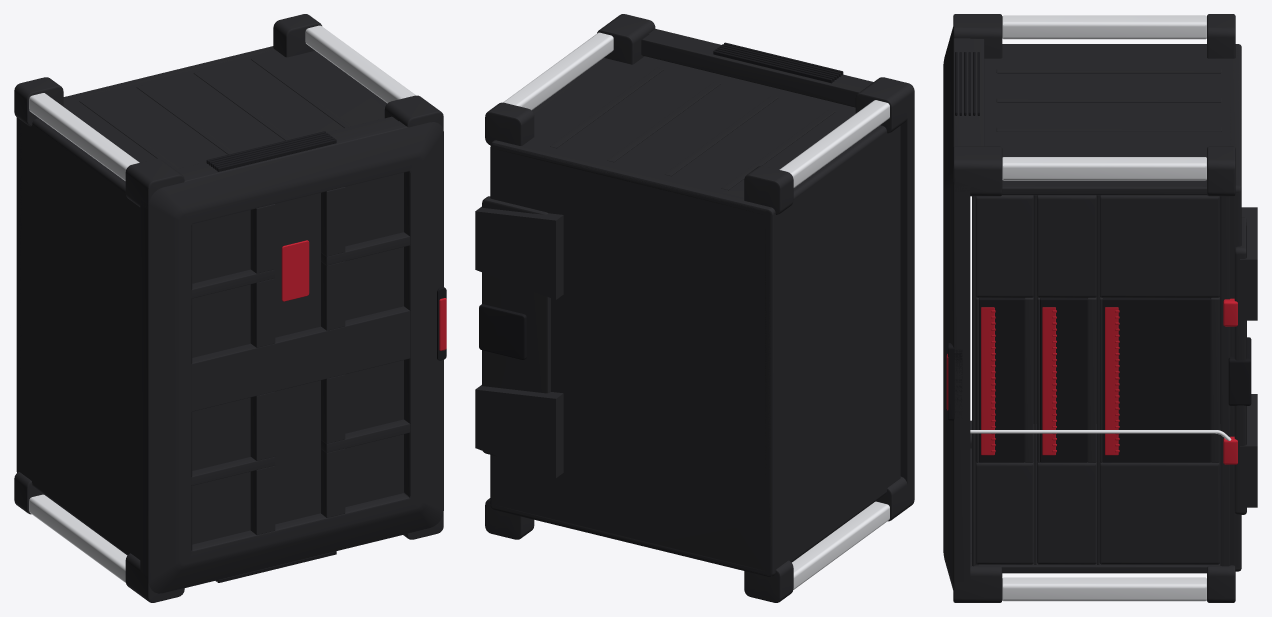
3 views of the same model, side by side, from view 1: azimuth 30°, elevation 25°; view 2: azimuth 150°, elevation 25°; view 3: azimuth 270°, elevation 25° (orthographic). The views are drawn at different scales.
Parts seen in each view (by area): view 1: vicko_plast, telo_zada, telo_bok, vicko_zebro11, madlo_trubka (×3), vicko_ucho (×3), telo_roh_dolni (×3), telo_zebro (×4), vicko_zebro19, vicko_zebro8, vicko_zebro2, vicko_zebro13 (+12 smaller); view 2: telo_dno, telo_zada, telo_bok (×2), sokl_noha (×2), madlo_trubka (×3), telo_roh_dolni (×4), vicko_plast, sokl_deska, vicko_suknice, vicko_ucho (×3), telo_zebro (×4), sokl_stred (+2 smaller); view 3: telo_bok (×2), zasuvka_prolis (×3), zasuvka_celo_L (×3), zasuvka_celo_P (×3), madlo_trubka (×3), vicko_plast, zasuvka_drzadlo (×3), vicko_ucho (×3), zasuvka_celo_dolni (×3), celo_sloupek (×2), telo_roh_dolni (×3), celo_dolni (+12 smaller).
Part boxes in pixels (x1,y1,x2,y2): vicko_plast: (140,121,443,593); telo_zada: (16,117,140,559); telo_bok: (32,46,385,192); vicko_zebro11: (191,306,410,411); madlo_trubka (×3): (29,25,415,582); vicko_ucho (×3): (125,95,443,602); telo_roh_dolni (×3): (14,14,321,514); telo_zebro (×4): (79,57,351,169); vicko_zebro19: (250,204,275,273); vicko_zebro8: (250,391,275,460); vicko_zebro2: (250,465,275,534); vicko_zebro13: (250,278,275,347); telo_dno: (490,141,777,576); telo_zada: (765,127,899,576); telo_bok (×2): (490,56,886,576); sokl_noha (×2): (475,206,563,477); madlo_trubka (×3): (503,32,889,589); telo_roh_dolni (×4): (485,102,793,602); vicko_plast: (648,29,914,489); sokl_deska: (482,196,550,456); vicko_suknice: (641,34,866,107); vicko_ucho (×3): (597,14,914,521); telo_zebro (×4): (550,67,835,190); sokl_stred: (479,304,526,359); telo_bok (×2): (979,44,1241,571); zasuvka_prolis (×3): (979,298,1210,462); zasuvka_celo_L (×3): (976,462,1219,564); zasuvka_celo_P (×3): (976,195,1219,297); madlo_trubka (×3): (1002,15,1206,601); vicko_plast: (943,27,970,589); zasuvka_drzadlo (×3): (981,307,1118,455); vicko_ucho (×3): (953,14,1002,602); zasuvka_celo_dolni (×3): (1024,297,1219,462); celo_sloupek (×2): (979,184,1219,573); telo_roh_dolni (×3): (1207,14,1235,602); celo_dolni: (1220,196,1230,566).
Size of the model in its own units: 414 by 564 by 363.
